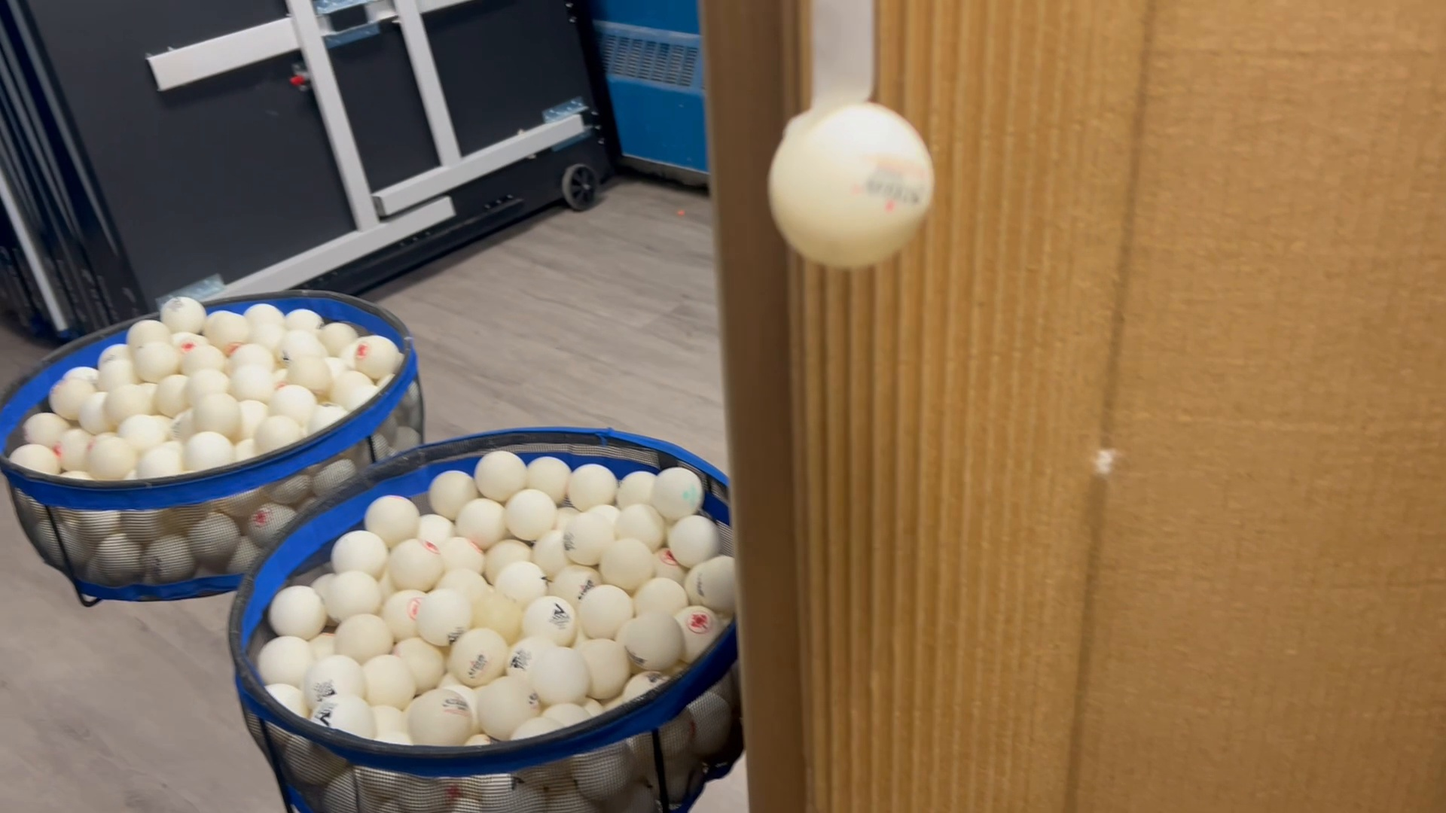Ball: (767, 101, 931, 277)
